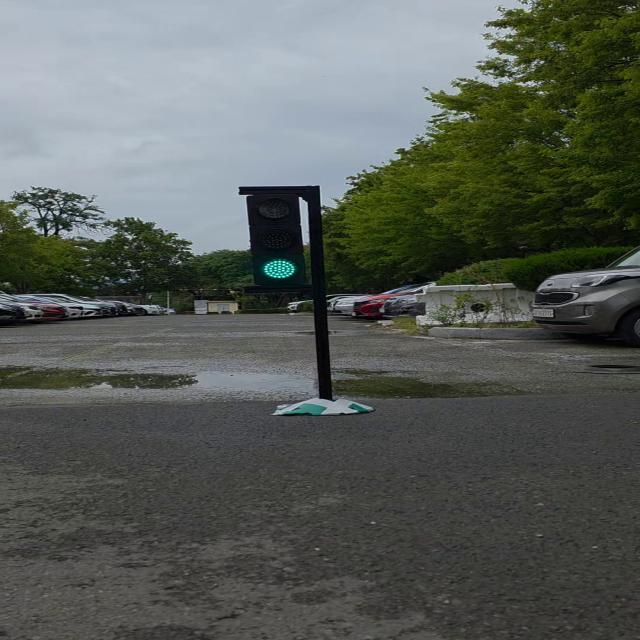green: (244, 187, 316, 286)
